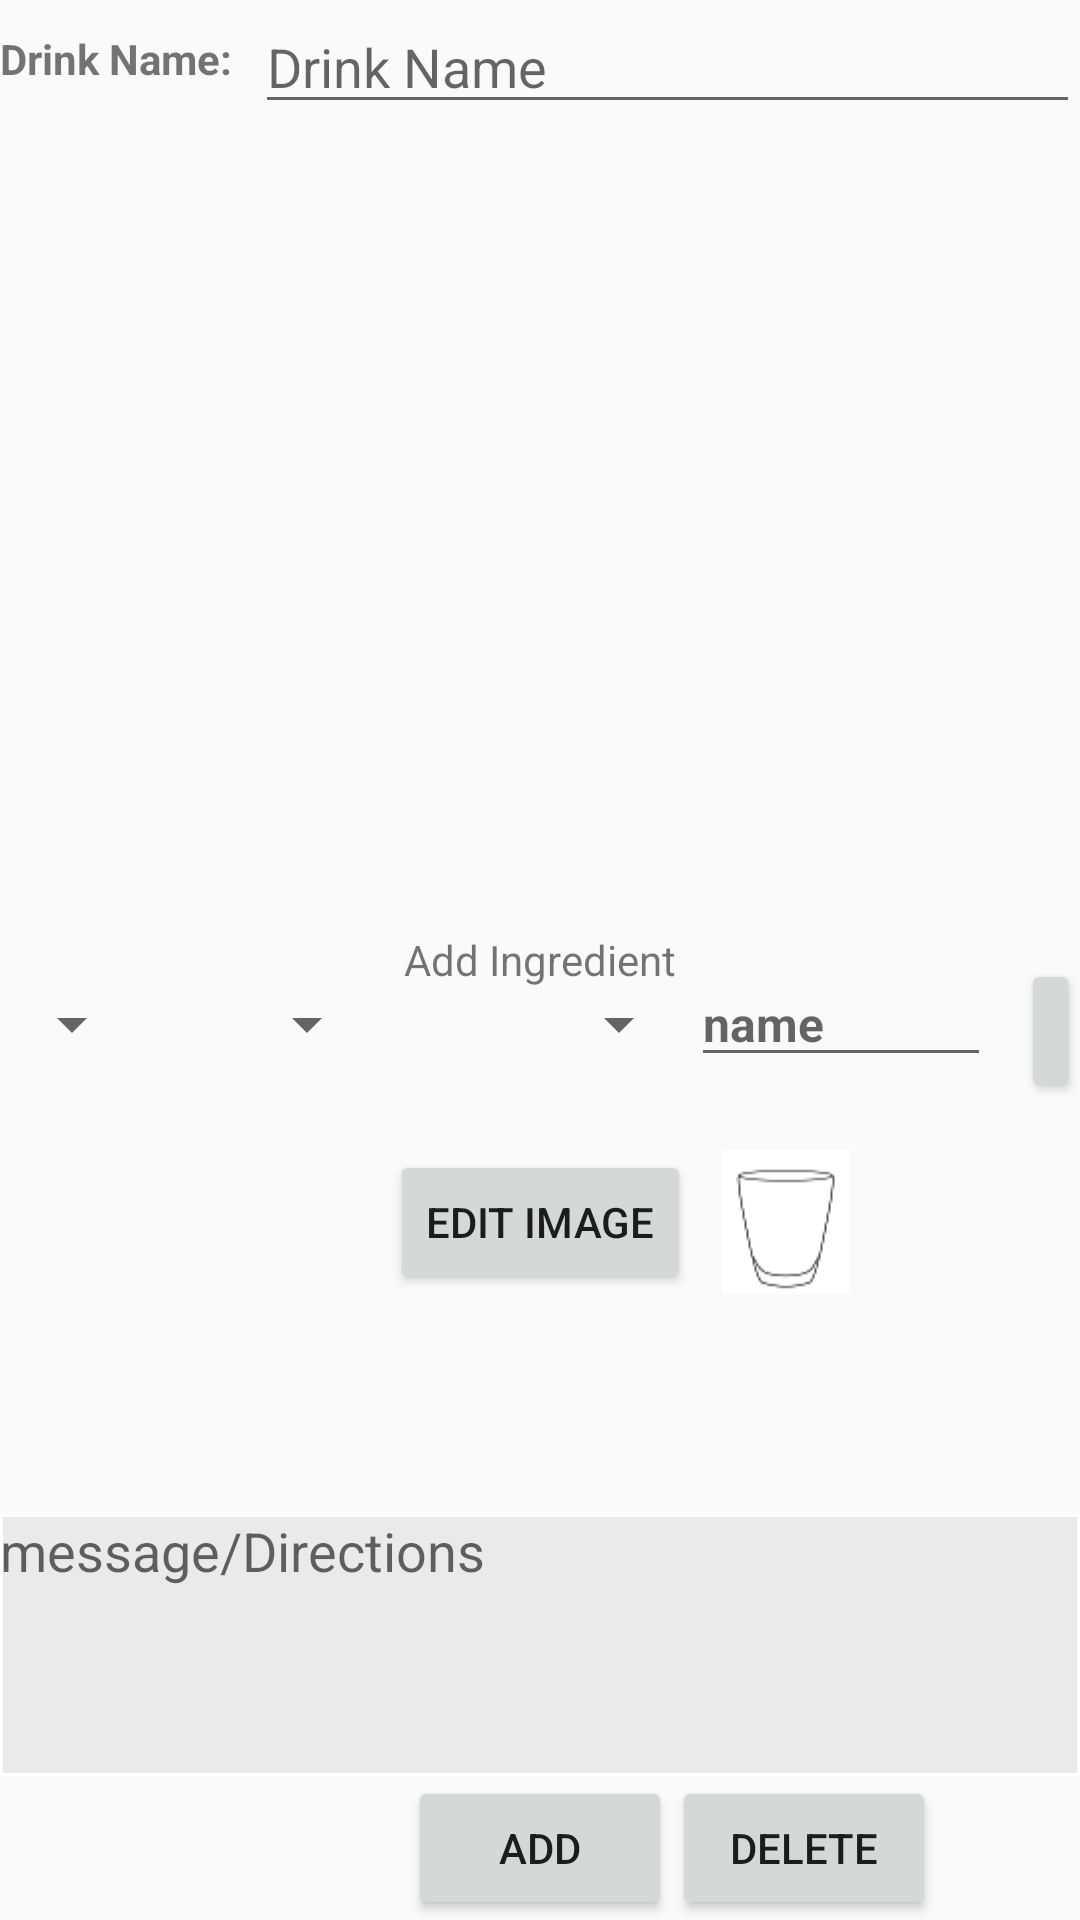

Icon click points for this 1080px×1920px phone screenshot, format (x,y):
emptysmall: (785,1229)
